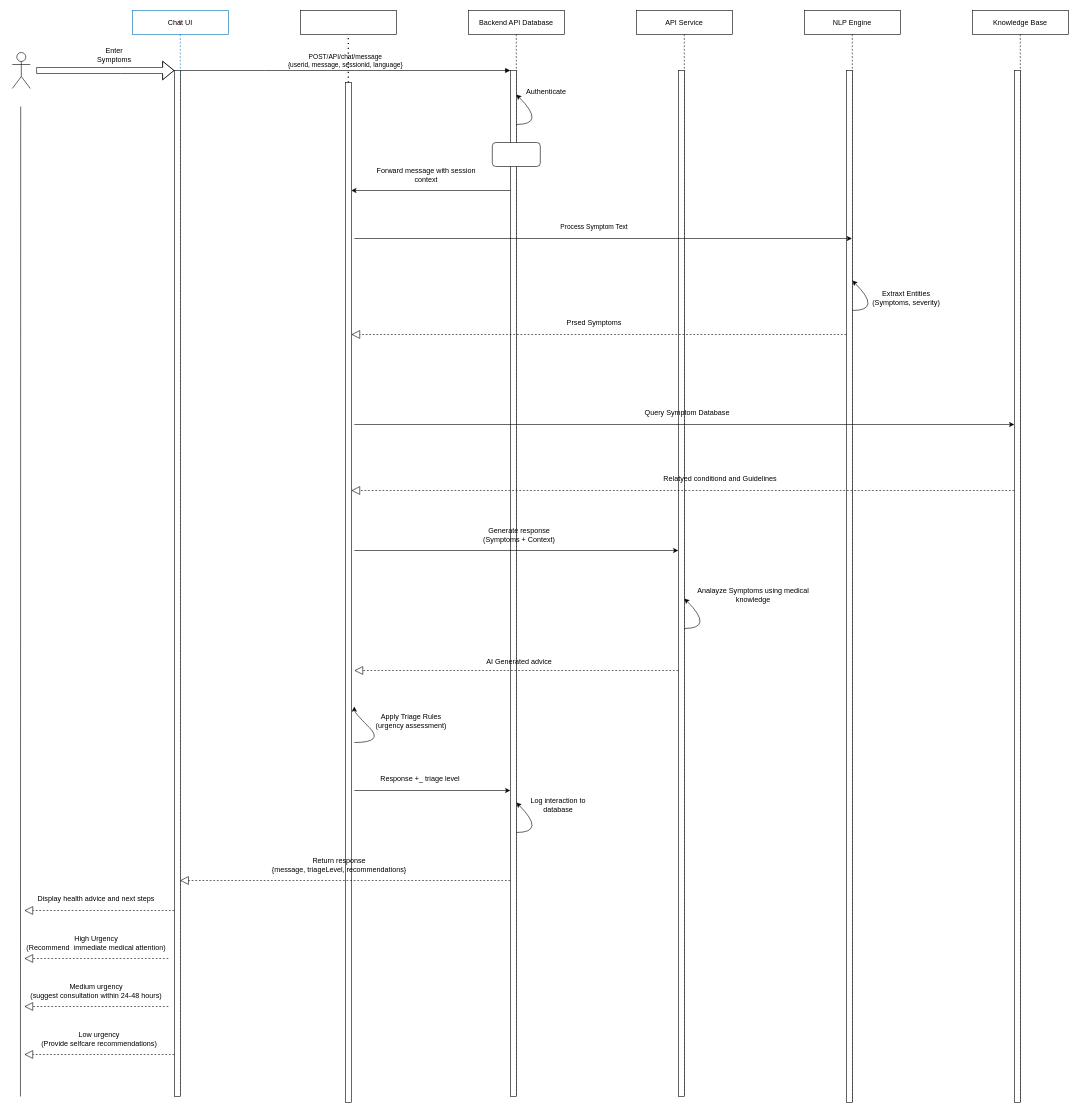
Image size: 1079x1113. Some labels were removed from this diagram. Here are the shapes that lost their labels. From the top down, the box of each, then its label:
(300, 10, 396, 34): Triage System
(12, 52, 30, 88): Patient
(498, 145, 534, 163): JWT Token
